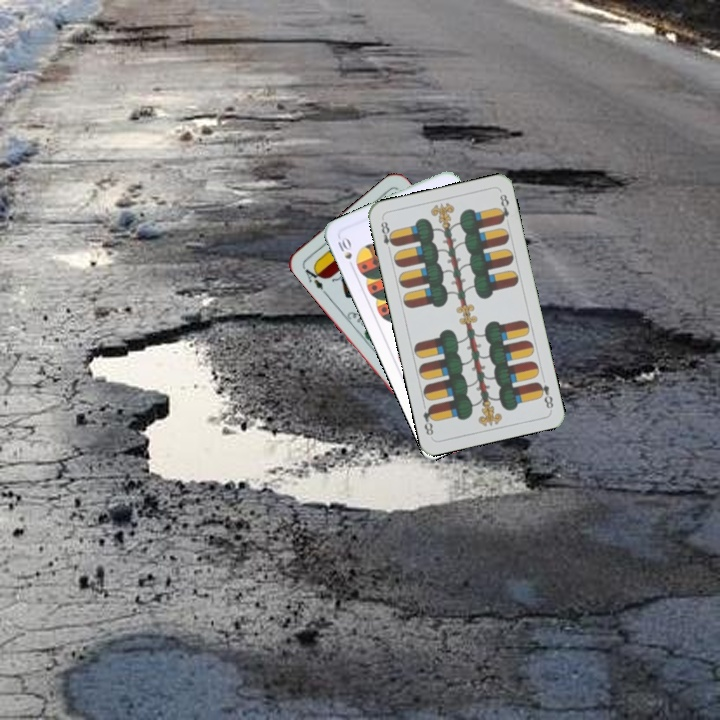E8: (377, 217, 398, 255), (533, 378, 556, 411)
EA: (299, 262, 329, 296)
S10: (333, 233, 355, 262)
